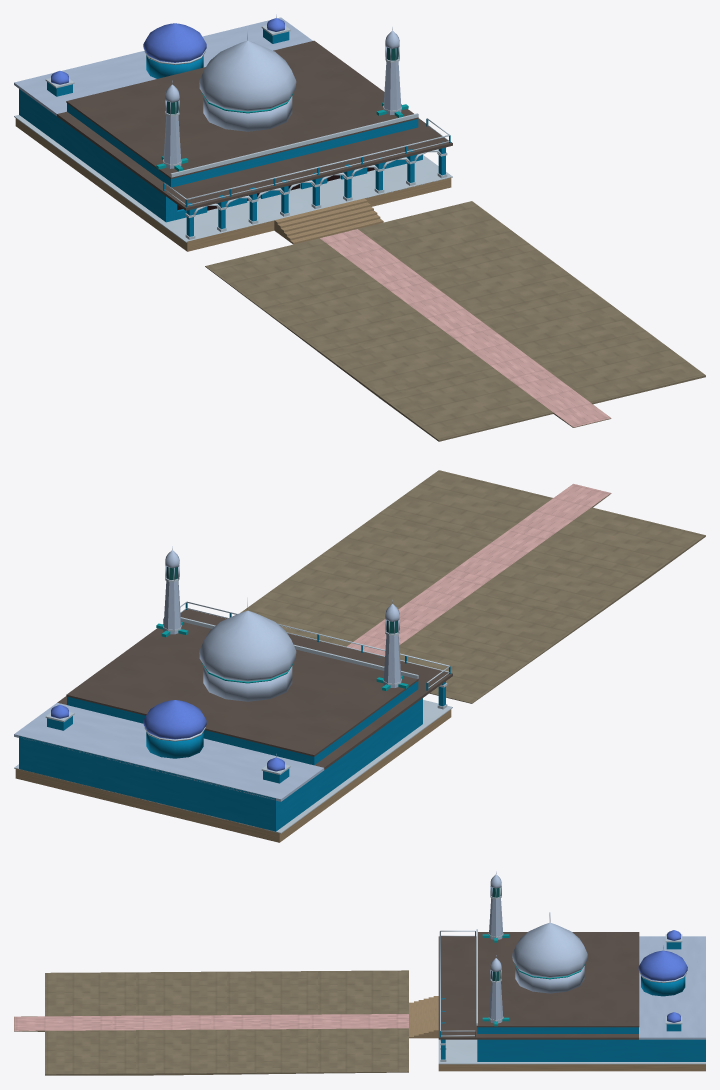
File: bung-binh-thien-lod.glb
3 renders of one model, top to bottom at view 1: azimuth 30°, elevation 25°; view 2: azimuth 150°, elevation 25°; view 3: azimuth 270°, elevation 25°, orthographic. The views are drawn at different scales.
Parts seen in each view (by area): view 1: Al Khairiyah closed main far; view 2: Al Khairiyah closed main far; view 3: Al Khairiyah closed main far.
Part boxes in pixels (bbox=[...]): Al Khairiyah closed main far: bbox=[14, 14, 705, 441]; Al Khairiyah closed main far: bbox=[14, 470, 705, 842]; Al Khairiyah closed main far: bbox=[14, 871, 705, 1075].
Size of the model in its own units: 26.69 by 13.82 by 77.01.
1 material, 1 textured.
